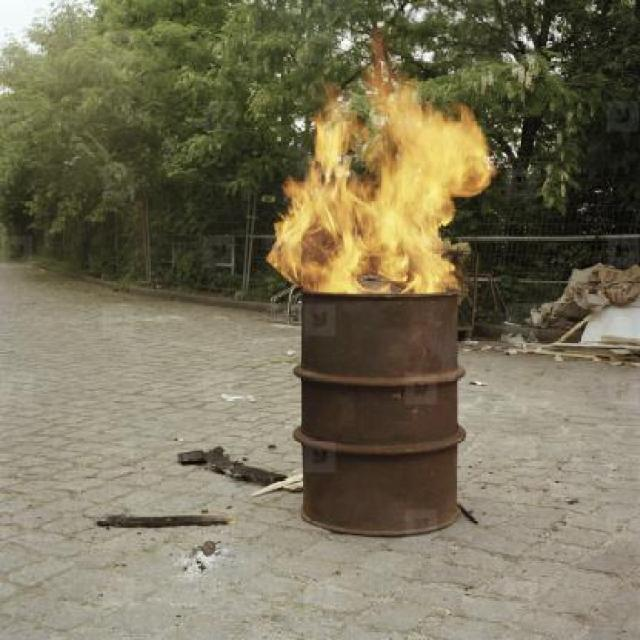Fire: (264, 58, 494, 298)
